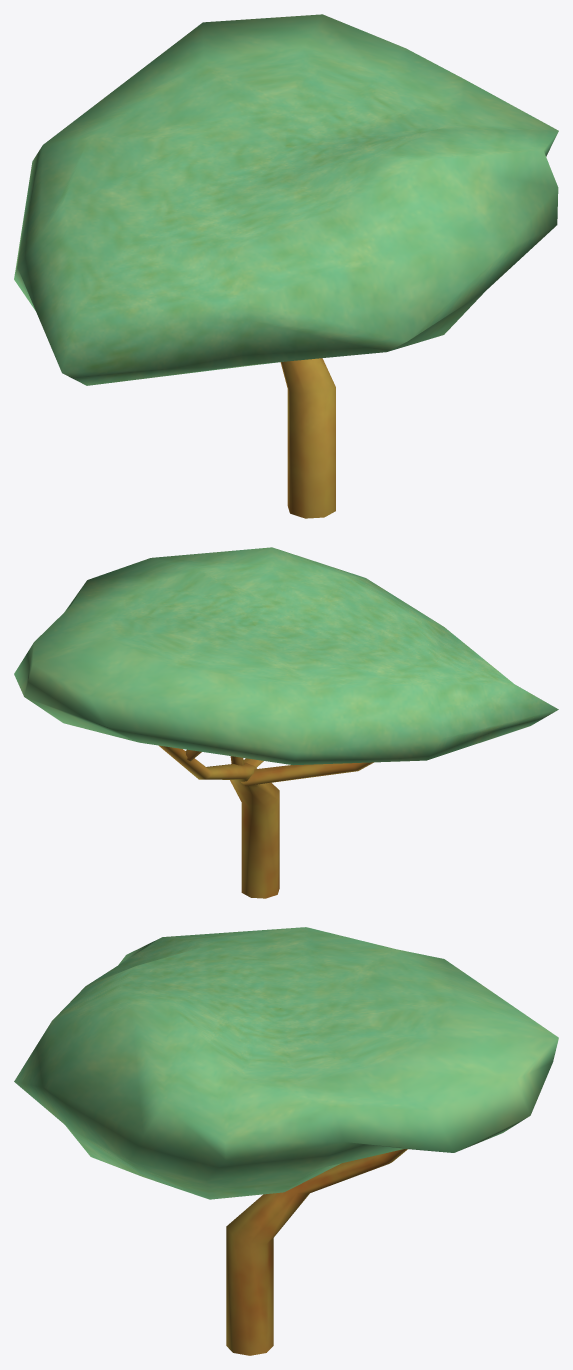
File: Tree3.fbx
The picture shows the model from 3 angles, top to bottom: view 1: azimuth 30°, elevation 25°; view 2: azimuth 150°, elevation 25°; view 3: azimuth 270°, elevation 25°; orthographic projection. The views are drawn at different scales.
Visible parts, largest first — view 1: Tree3; view 2: Tree3; view 3: Tree3.
Boxes of the visible parts, left/top/right/bottom form: Tree3: left=14, top=14, right=558, bottom=518; Tree3: left=14, top=547, right=558, bottom=898; Tree3: left=14, top=927, right=558, bottom=1355.
Bounding box in the file's own units: 6.66 × 4.41 × 6.06.
